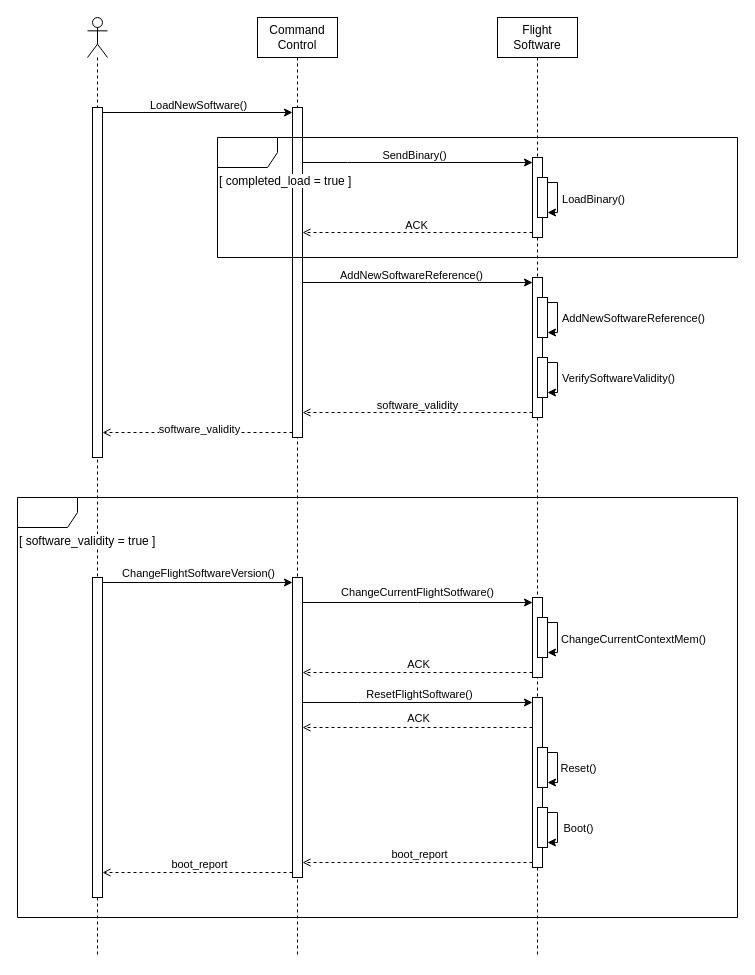
Some shapes in this 755 by 975 pixel diagram are drawn without their labels. Here are the shapes that lost their labels. From the top down, the box of each, then its label:
(216, 136, 738, 258): loop
(16, 496, 738, 918): frame
